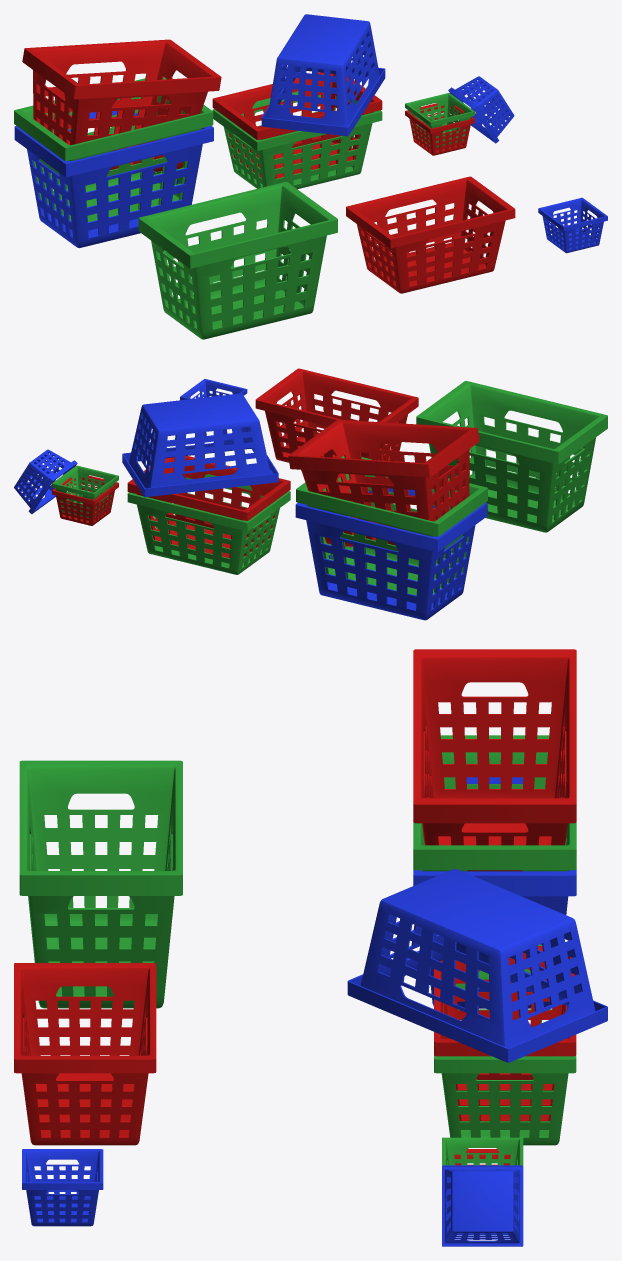
The model's file is Basket.fbx.
3 views of the same model, one above another, from view 1: azimuth 30°, elevation 25°; view 2: azimuth 150°, elevation 25°; view 3: azimuth 270°, elevation 25° (orthographic). The views are drawn at different scales.
Visible parts, largest first — view 1: Basket 004, Basket 017, Basket 005, Basket 015, Basket 014, Basket 008, Basket 016, Basket 011, Basket 006, Basket 013, Basket 009, Basket 012; view 2: Basket 004, Basket 017, Basket 015, Basket 014, Basket 005, Basket 008, Basket 016, Basket 011, Basket 013, Basket 009, Basket 012, Basket 006; view 3: Basket 014, Basket 004, Basket 017, Basket 005, Basket 008, Basket 013, Basket 016, Basket 006, Basket 011, Basket 015, Basket 012.
Boxes of the visible parts, <box> form: Basket 004: <box>138,182,337,339</box>; Basket 017: <box>22,39,221,171</box>; Basket 005: <box>346,176,515,293</box>; Basket 015: <box>14,111,213,248</box>; Basket 014: <box>261,14,385,136</box>; Basket 008: <box>212,91,382,189</box>; Basket 016: <box>14,77,213,222</box>; Basket 011: <box>212,72,382,178</box>; Basket 006: <box>538,197,607,253</box>; Basket 013: <box>448,76,514,143</box>; Basket 009: <box>405,103,474,155</box>; Basket 012: <box>405,93,474,147</box>; Basket 004: <box>416,381,607,532</box>; Basket 017: <box>288,419,479,546</box>; Basket 015: <box>295,488,487,620</box>; Basket 014: <box>122,393,278,497</box>; Basket 005: <box>255,368,418,462</box>; Basket 008: <box>127,474,290,574</box>; Basket 016: <box>296,455,487,595</box>; Basket 011: <box>127,456,290,558</box>; Basket 013: <box>14,449,77,513</box>; Basket 009: <box>52,475,118,525</box>; Basket 012: <box>52,465,118,517</box>; Basket 006: <box>180,379,247,400</box>; Basket 014: <box>347,869,607,1062</box>; Basket 004: <box>19,760,182,1008</box>; Basket 017: <box>413,649,576,871</box>; Basket 005: <box>14,963,156,1145</box>; Basket 008: <box>434,969,576,1145</box>; Basket 013: <box>442,1165,523,1246</box>; Basket 016: <box>413,735,576,945</box>; Basket 006: <box>22,1149,103,1226</box>; Basket 011: <box>434,946,576,1121</box>; Basket 015: <box>413,777,576,1008</box>; Basket 012: <box>442,1137,523,1165</box>.
Bounding box in the file's own units: 153 × 53.8 × 108.
